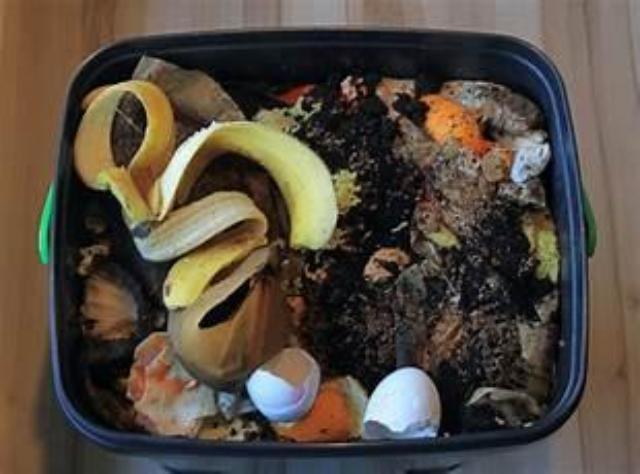Garbage: (41, 31, 582, 472)
